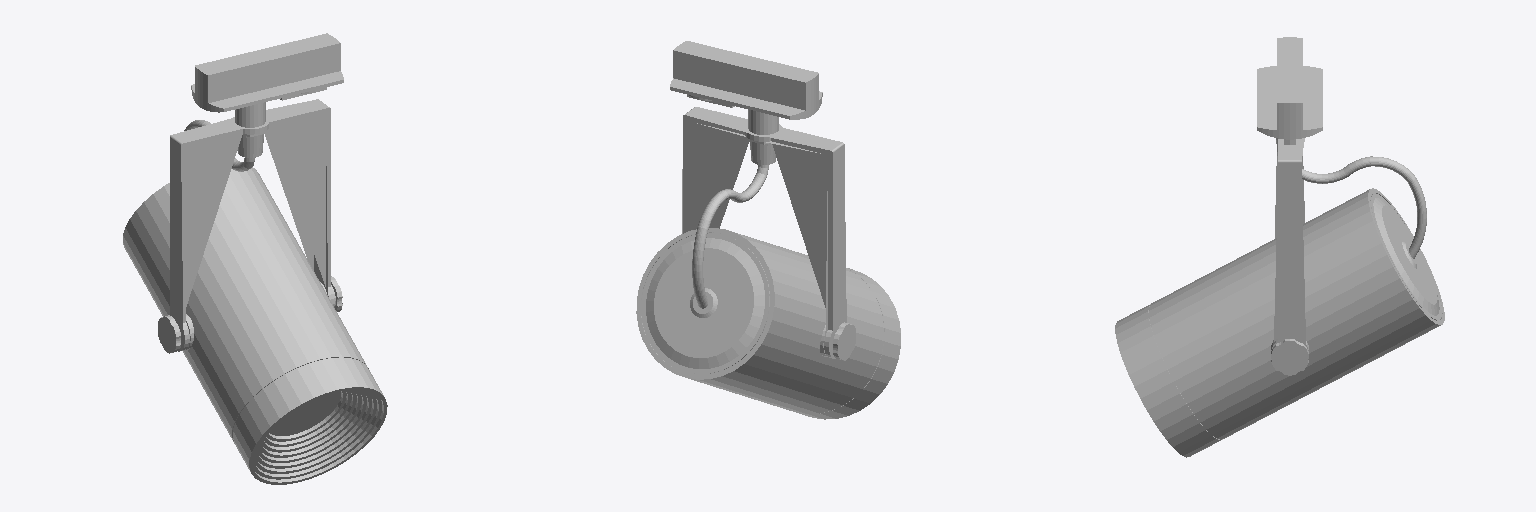
Rendered from Euro Spot LED czarny 1f.obj.
3 renders of one model, left to right at view 1: azimuth 30°, elevation 25°; view 2: azimuth 150°, elevation 25°; view 3: azimuth 270°, elevation 25°, orthographic.
Visible parts, largest first — view 1: spotline_[number redacted]_v1_190918_18; view 2: spotline_[number redacted]_v1_190918_18; view 3: spotline_[number redacted]_v1_190918_18.
Part boxes in pixels (x1,y1,x2,y2): spotline_[number redacted]_v1_190918_18: (123, 33, 387, 484); spotline_[number redacted]_v1_190918_18: (636, 41, 900, 419); spotline_[number redacted]_v1_190918_18: (1115, 37, 1444, 457).
Bounding box in the file's own units: 10.1 × 22.26 × 17.16.